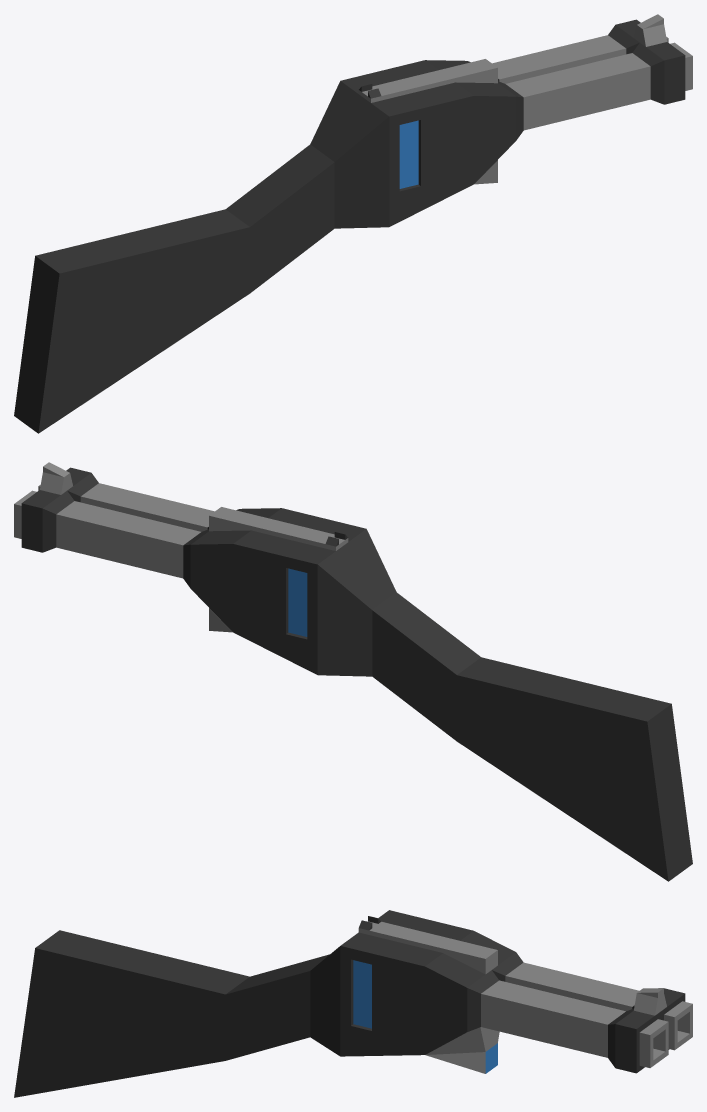
File: Shotgun.fbx
3 views of the same model, one above another, from view 1: azimuth 30°, elevation 25°; view 2: azimuth 150°, elevation 25°; view 3: azimuth 330°, elevation 25° (orthographic).
Visible parts, largest first — view 1: Cube.001; view 2: Cube.001; view 3: Cube.001.
Part boxes in pixels (x1,y1,x2,y2): Cube.001: (14, 14, 692, 433); Cube.001: (14, 462, 692, 881); Cube.001: (14, 910, 692, 1097).
Bounding box in the file's own units: 153 × 57.25 × 20.
